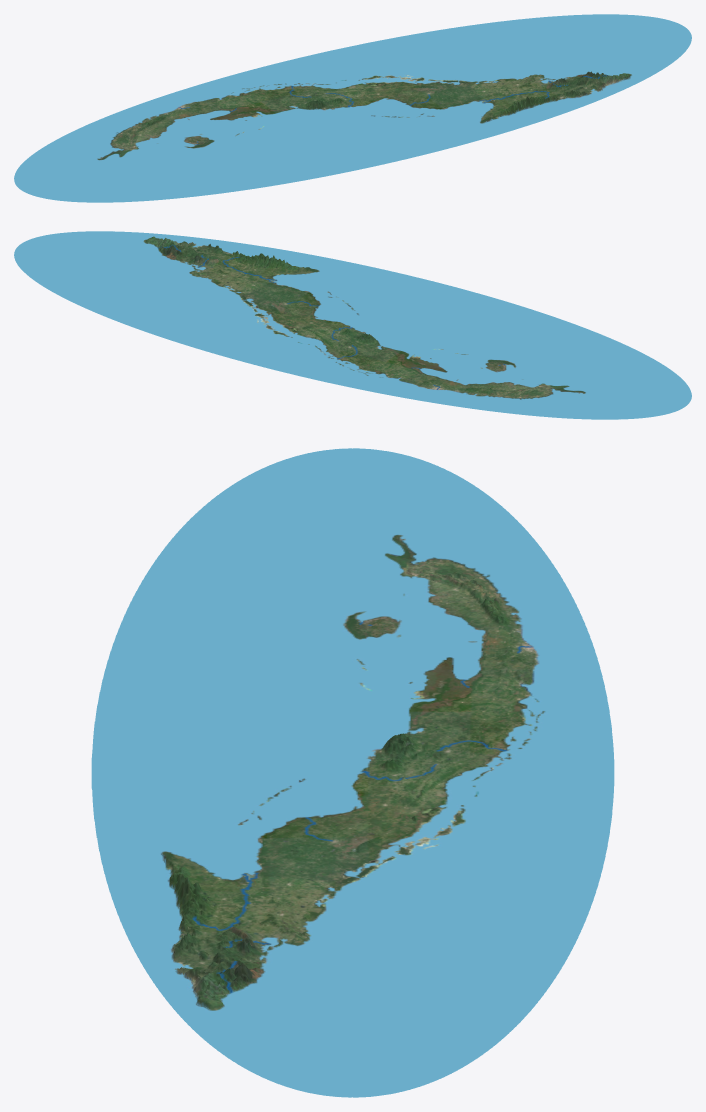
File: CUB-previa-terrain.glb
3 renders of one model, top to bottom at view 1: azimuth 30°, elevation 25°; view 2: azimuth 150°, elevation 25°; view 3: azimuth 270°, elevation 25°, orthographic. The views are drawn at different scales.
Parts seen in each view (by area): view 1: Cuba; view 2: Cuba; view 3: Cuba.
Boxes of the visible parts, x1,y1,x2,y2 form: Cuba: (14, 14, 691, 202); Cuba: (14, 231, 691, 419); Cuba: (91, 448, 614, 1097).
Bounding box in the file's own units: 2.4 × 0.0334 × 0.8175.
Materials: 1 (1 with a texture image).
